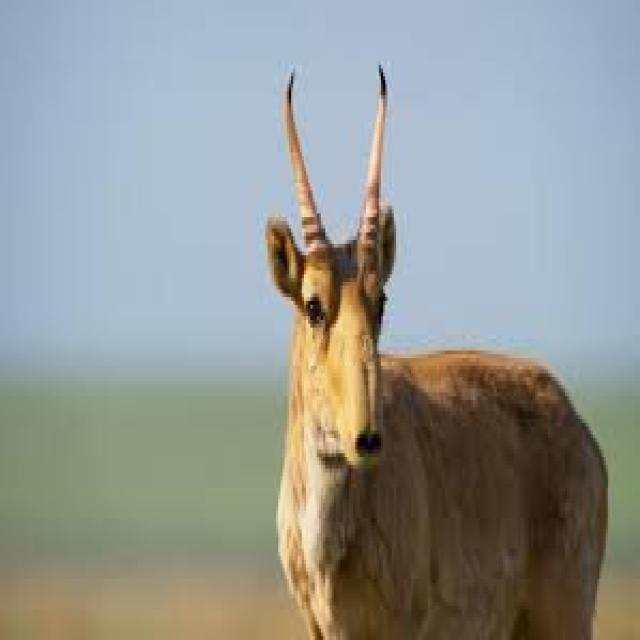Antelope: (260, 63, 610, 640)
